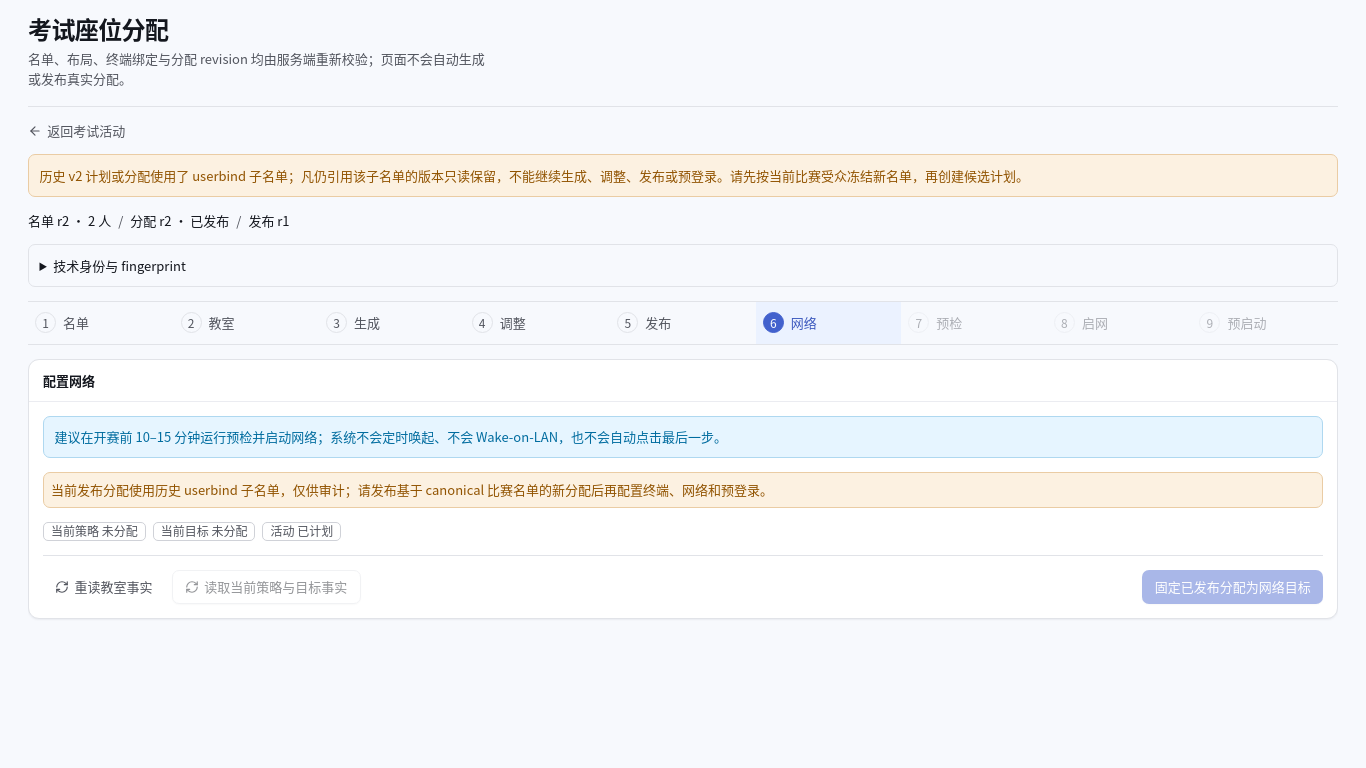
Test: p2.5 exam seat assignment workspace › keeps a historical Krypton v2 assignment based on a userbind subset strictly read-only
This screenshot has width=1366, height=768.
Expected: the text "历史 v2 计划或分配使用了 userbind 子名单" is shown, [40,166,1029,185]
Click the button with aria-label "生成分配" at (392, 323), box [319,302,465,344]
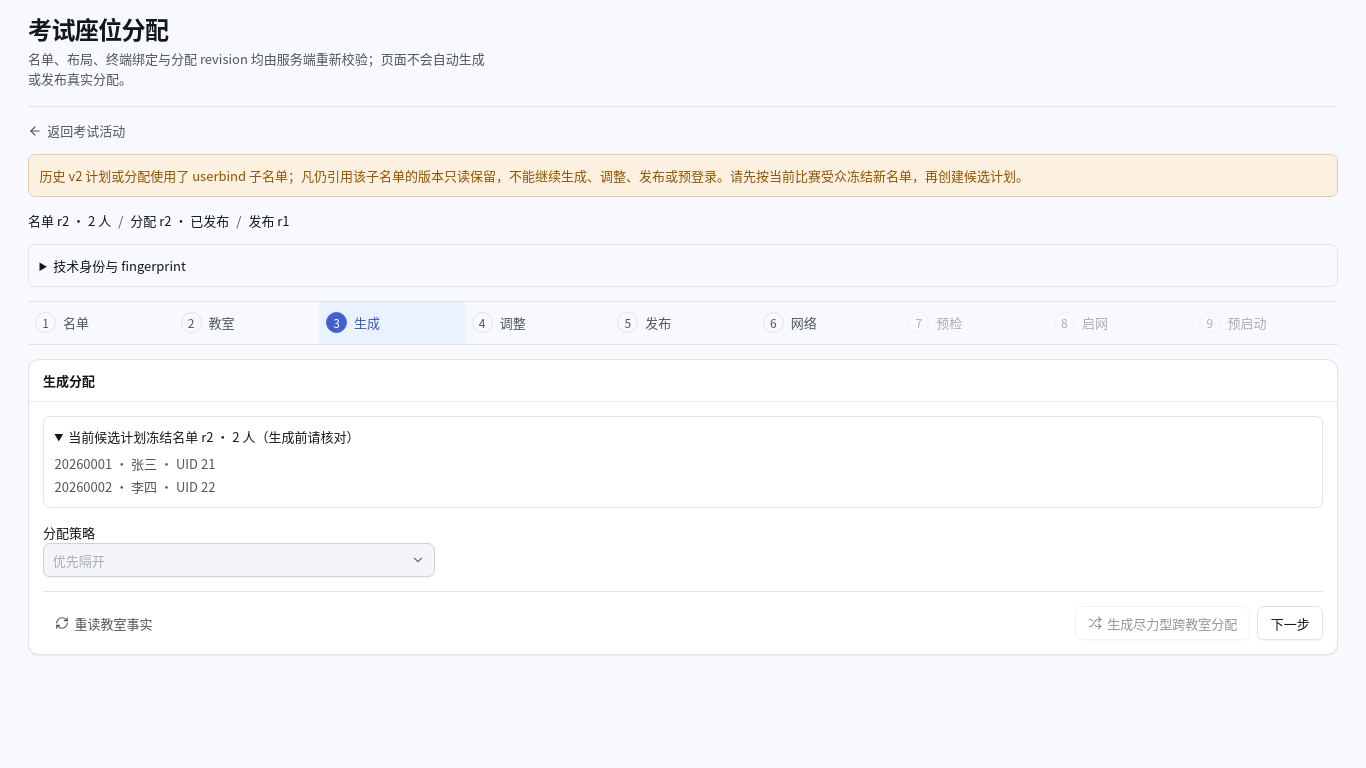
Expected: the button "生成尽力型跨教室分配" is disabled, [1075,606,1250,640]
Click the button with aria-label "检查调整" at (538, 323), box [465,302,610,344]
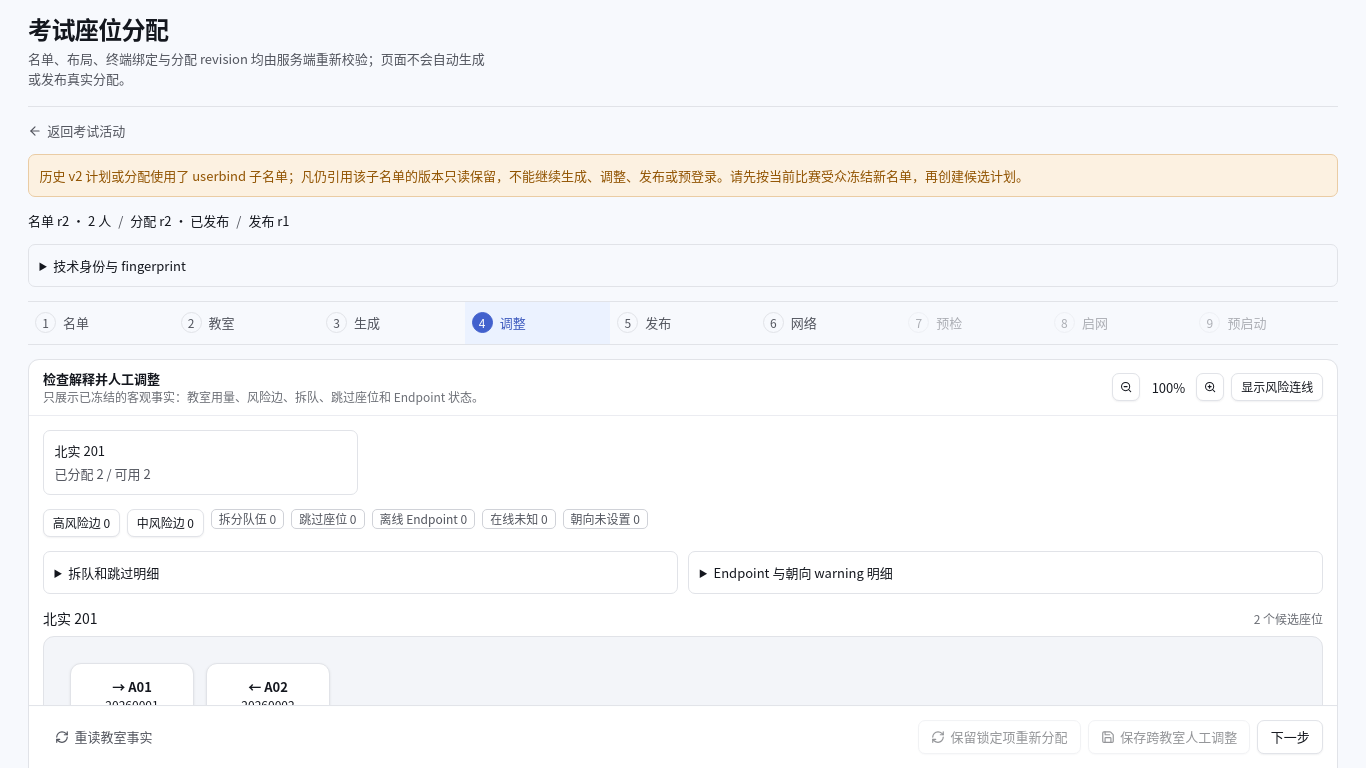
Expected: the button "保留锁定项重新分配" is disabled, [918,720,1081,754]
Click the button with aria-label "发布分配" at (683, 323), box [610,302,756,344]
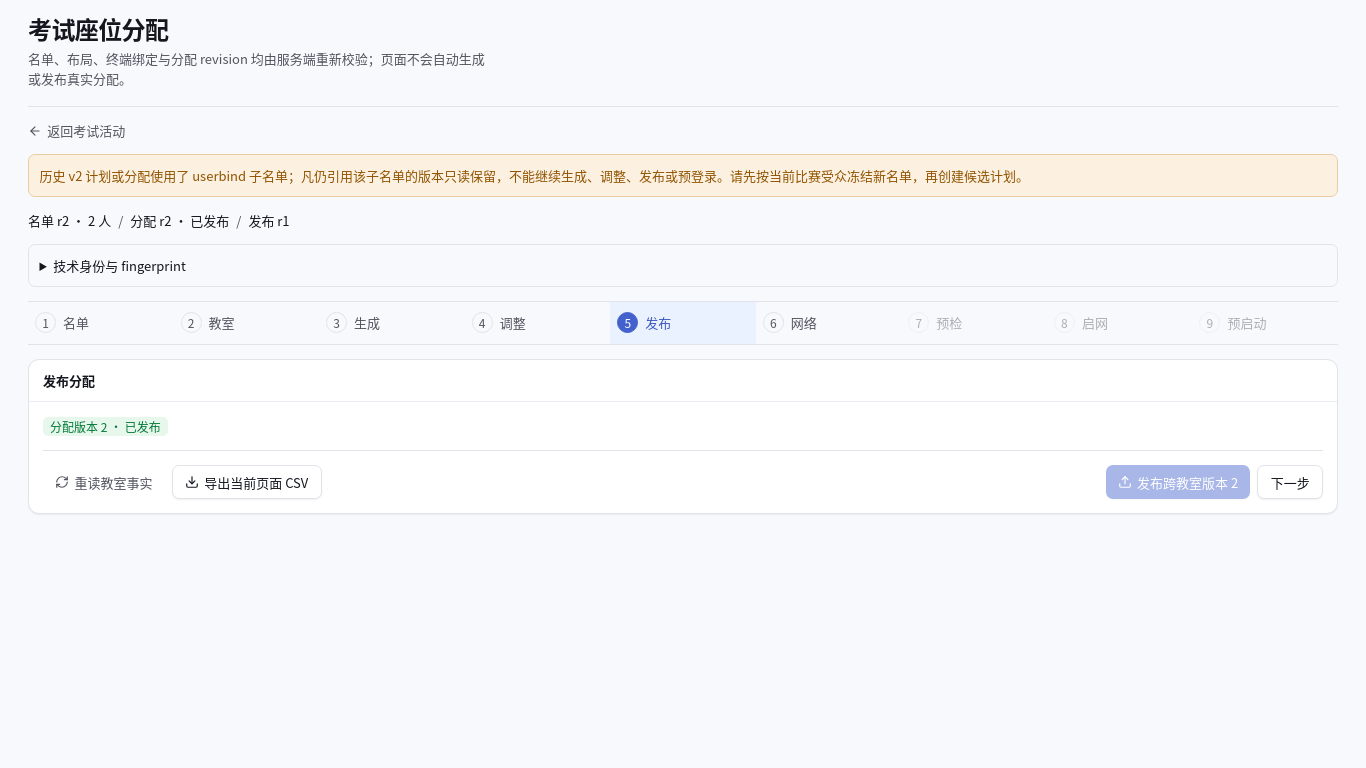
Expected: the button "发布跨教室版本 2" is disabled, [1106,465,1250,499]
Click the button with aria-label "配置网络" at (829, 323), box [756,302,901,344]
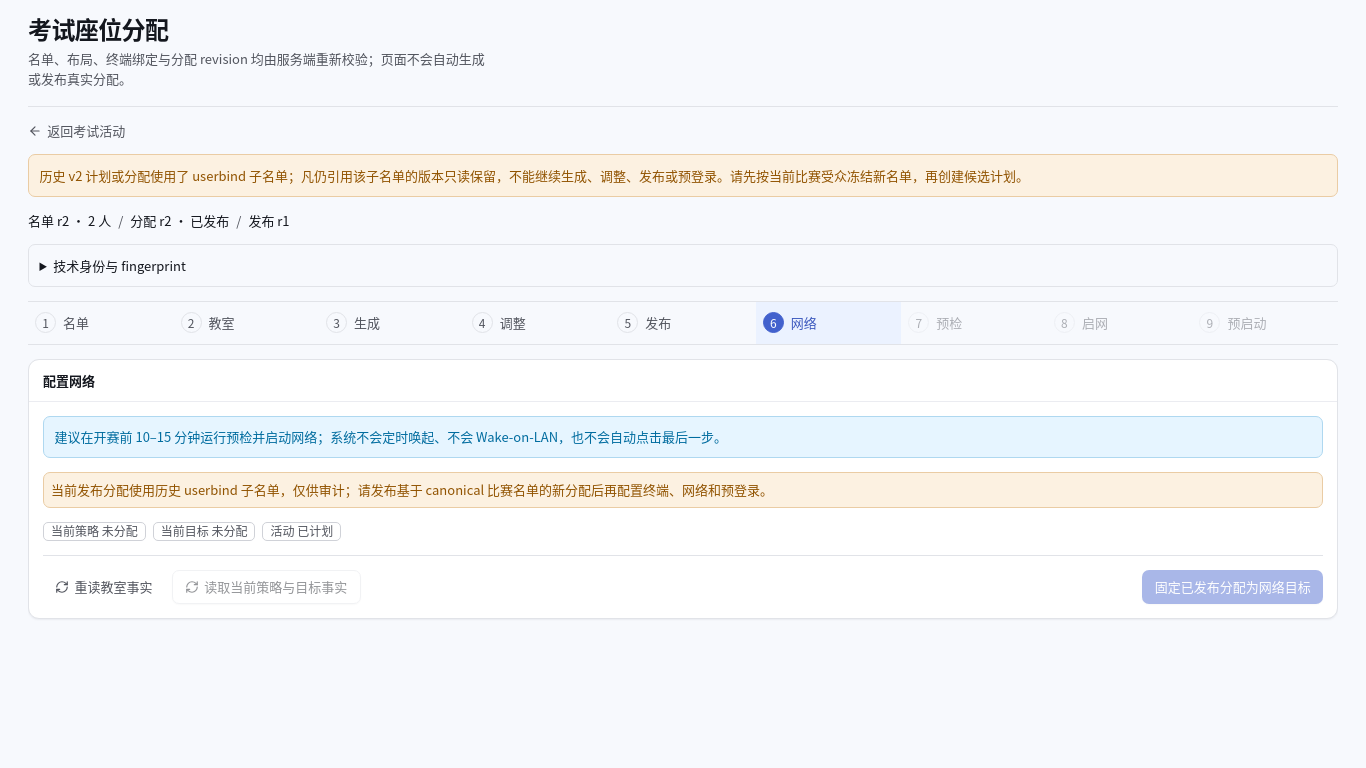
Expected: the button with aria-label "终端预检" is disabled, [901,302,1047,344]
Expected: the button "固定已发布分配为网络目标" is disabled, [1142,570,1323,604]
